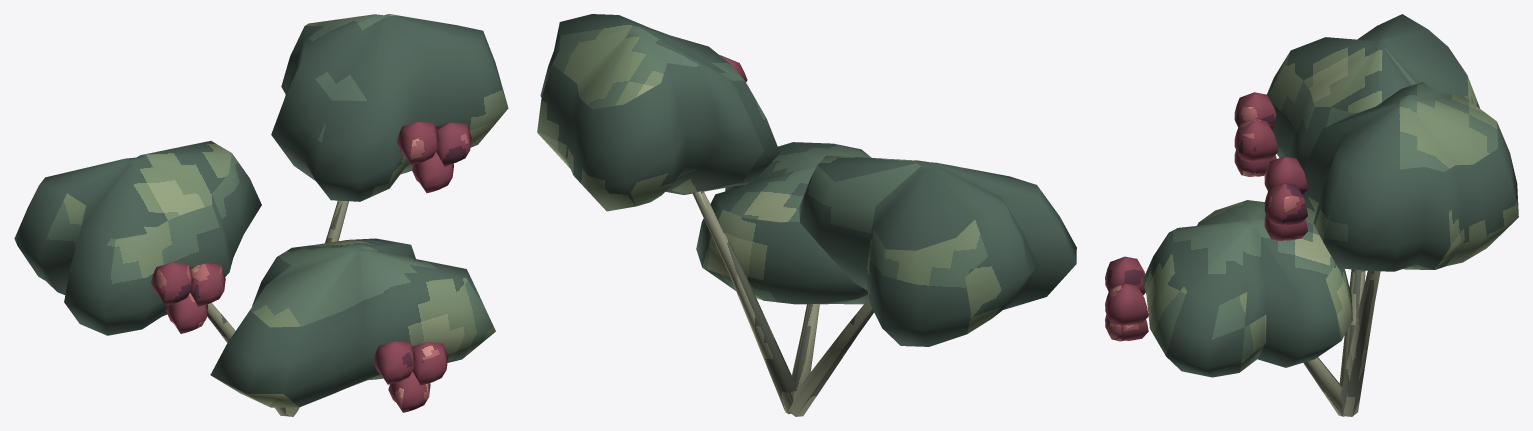
Rendered from berry-bush-open.glb.
The picture shows the model from 3 angles, left to right: view 1: azimuth 30°, elevation 25°; view 2: azimuth 150°, elevation 25°; view 3: azimuth 270°, elevation 25°; orthographic projection. The views are drawn at different scales.
Parts seen in each view (by area): view 1: berry-bush-open runtime mesh; view 2: berry-bush-open runtime mesh; view 3: berry-bush-open runtime mesh.
Part boxes in pixels (x1,y1,x2,y2): berry-bush-open runtime mesh: [14, 14, 508, 416]; berry-bush-open runtime mesh: [537, 14, 1076, 416]; berry-bush-open runtime mesh: [1105, 14, 1518, 416].
Size of the model in its own units: 1.37 by 0.9929 by 0.9902.
3 materials, 3 textured.
